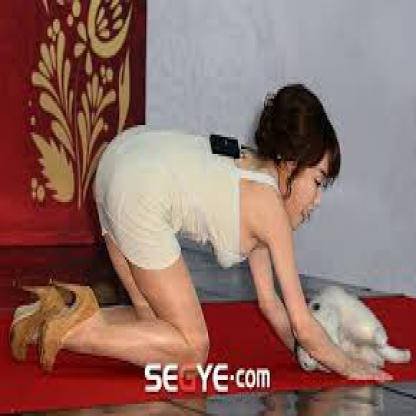Fall_Down: (10, 81, 392, 384)
